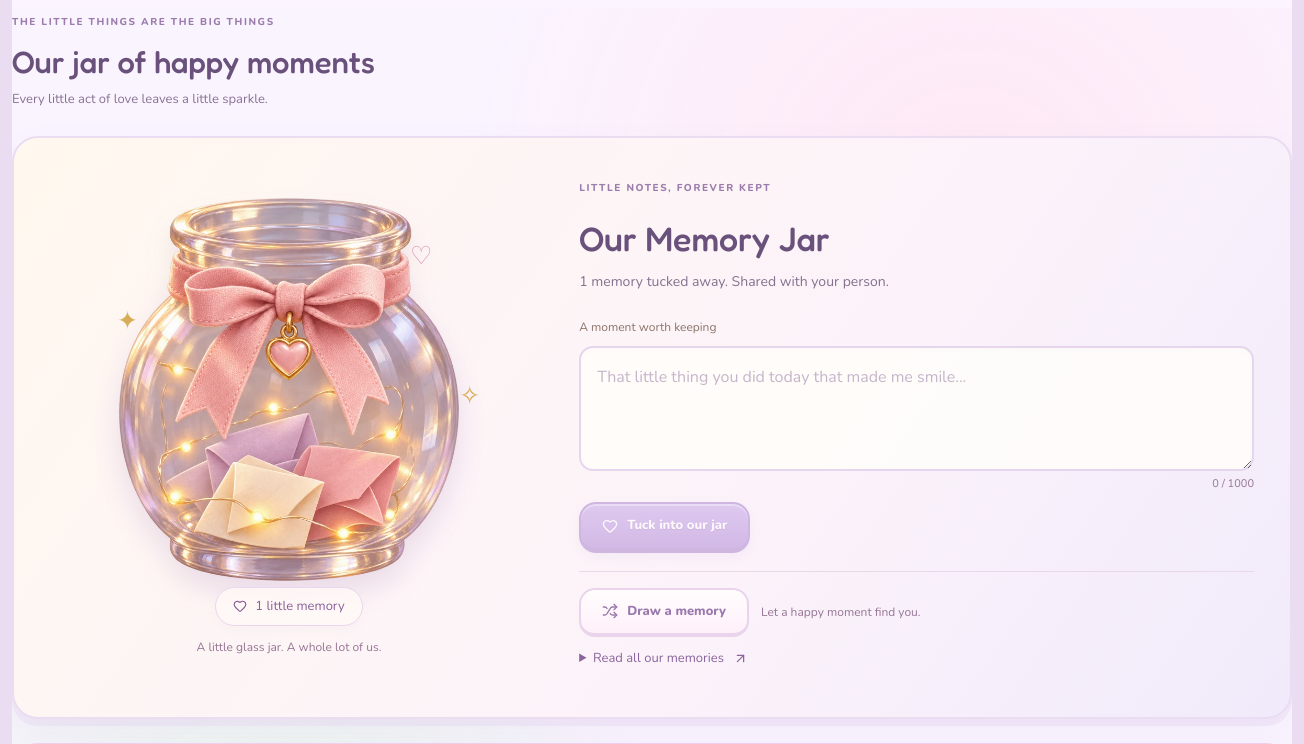
Test case: draws a saved memory with preserved text
The image size is (1304, 744).
Click the button "Draw a memory".
click(664, 612)  # box [579,588,749,637]
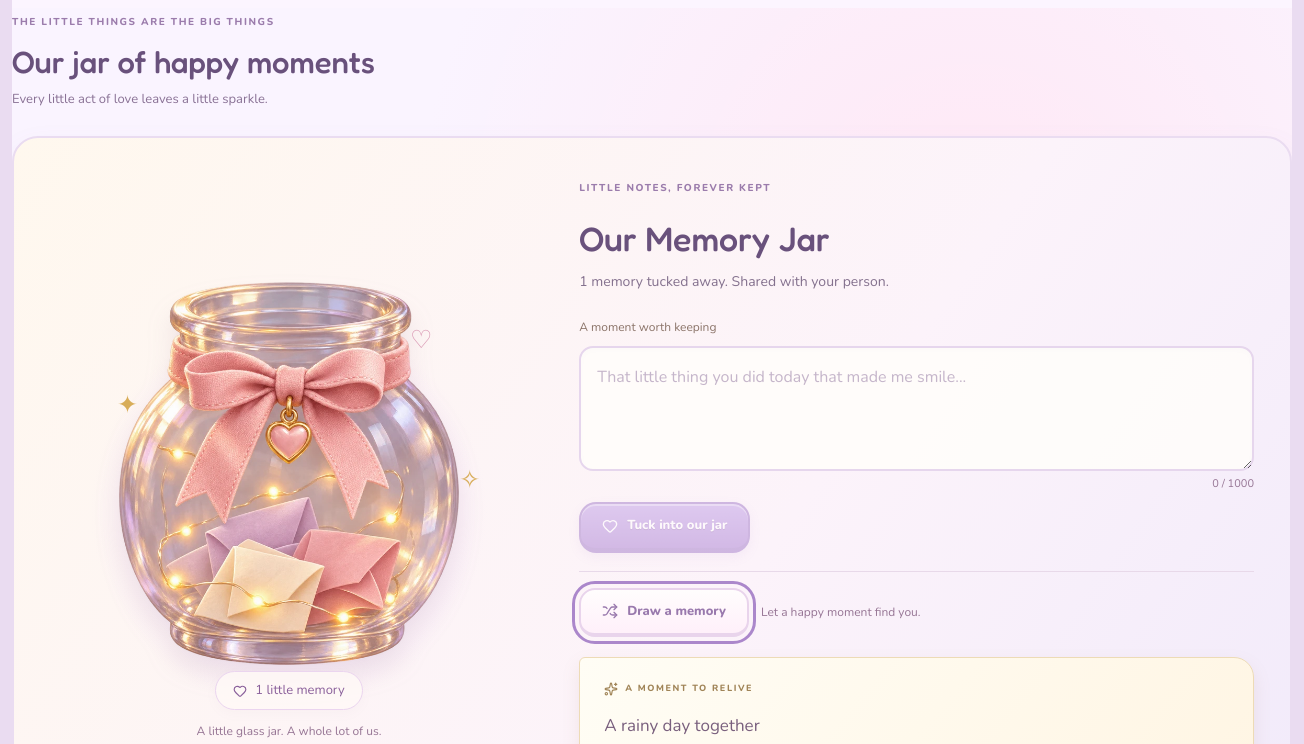
Expected: the message shows "A rainy day together", [604,714,760,737]
